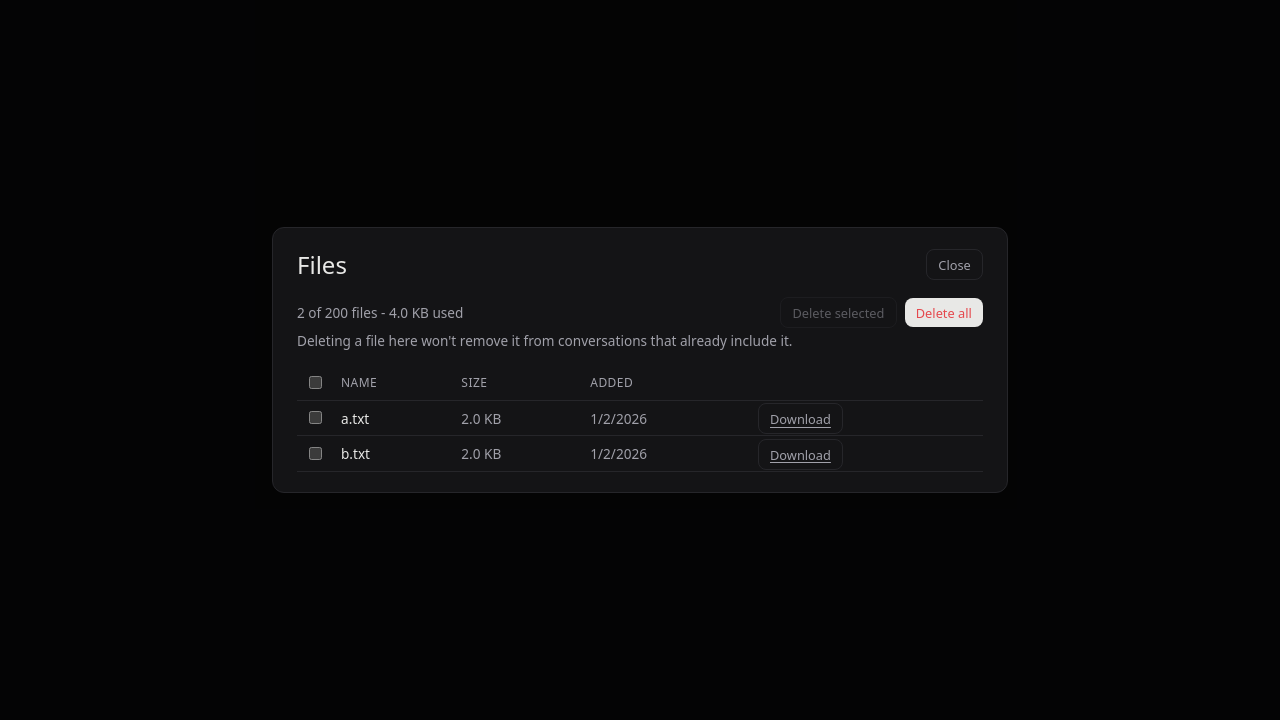
Test: FilesPanel — delete › surfaces an error when a delete fails
The image size is (1280, 720).
Expected: the text "a.txt" is shown, [333,401,453,436]
Click the checkbox named "a.txt" at coordinates (316, 418), box [309,411,322,424]
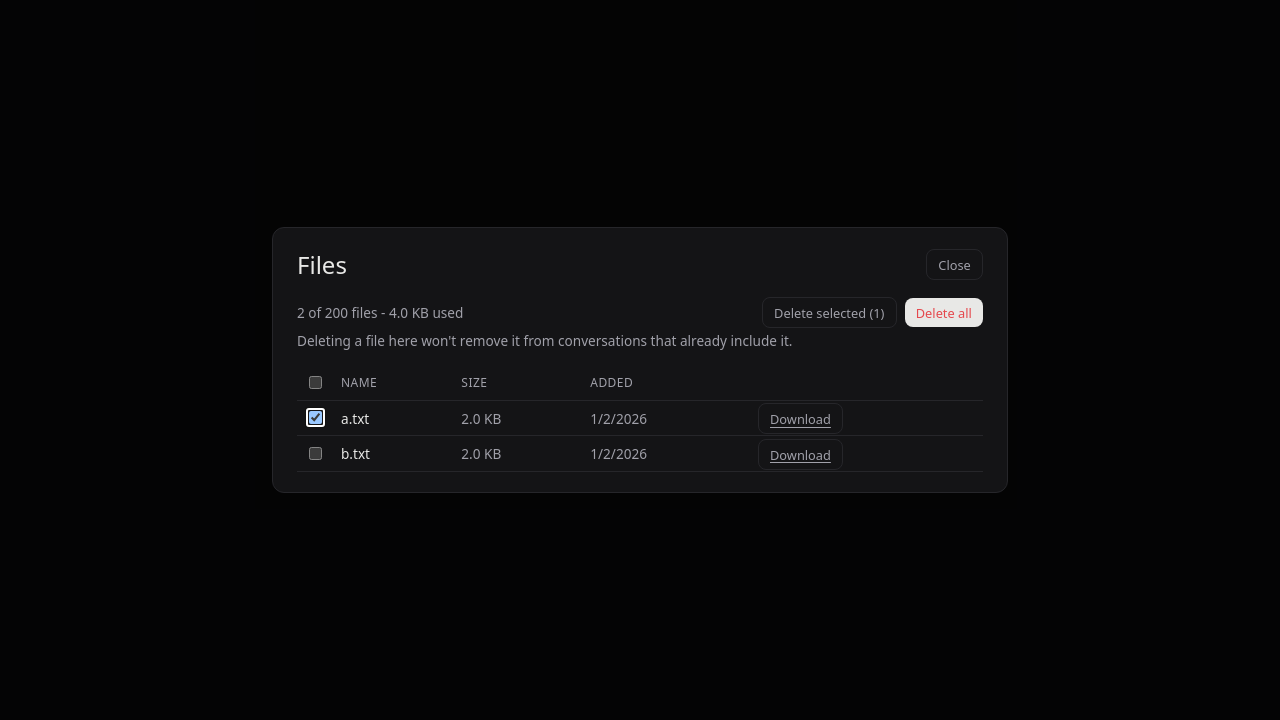
Click the button "Delete selected (1)" at coordinates (829, 313), box [762,297,897,328]
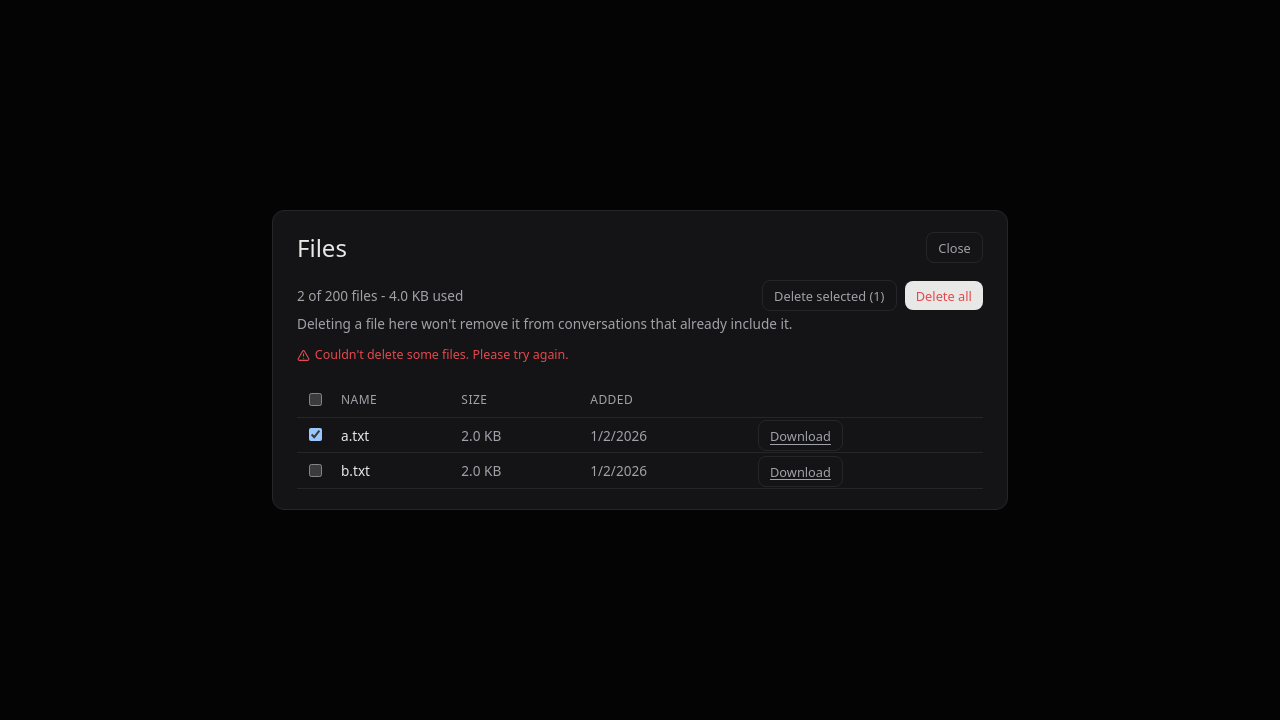
Expected: the text "Couldn't delete some files. Please try again." is shown, [315,347,569,363]
